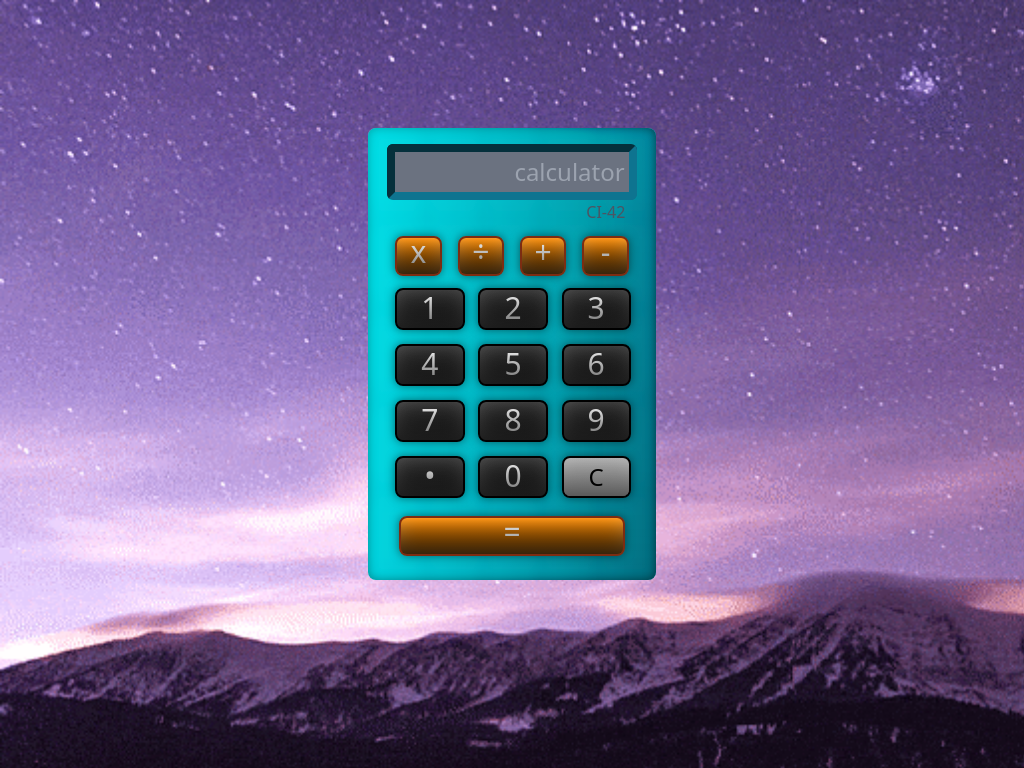
Test: clicking on digits updates display
Click the button "•".
click(430, 477)  # box [395,456,465,498]
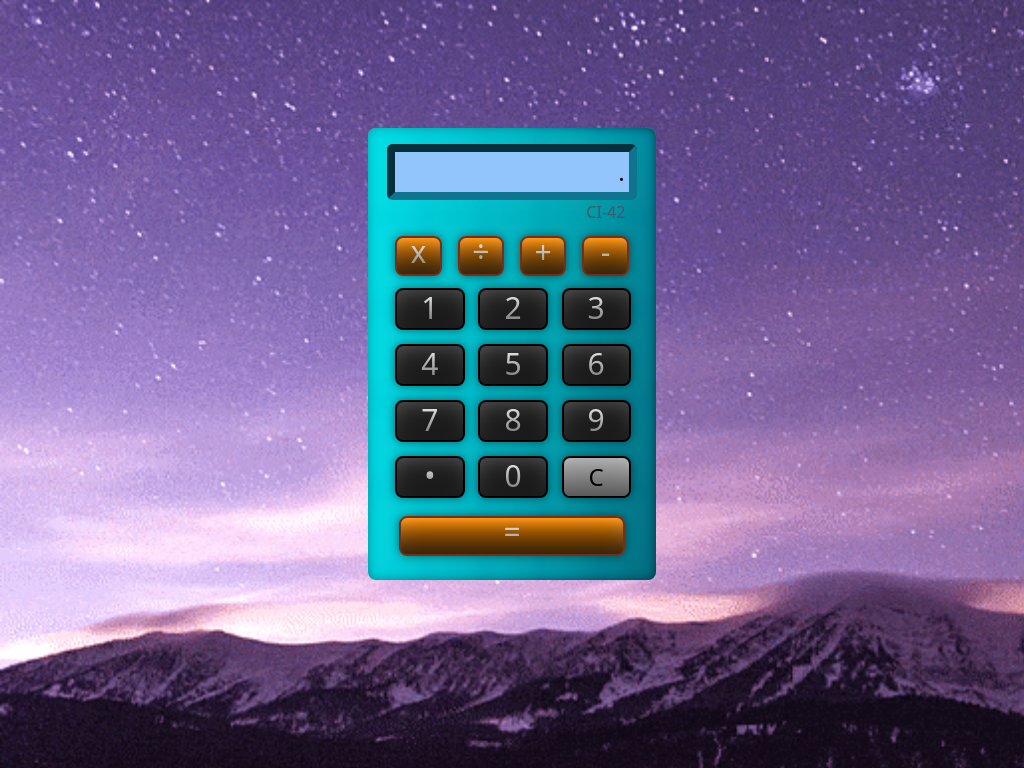
Now the field with placeholder "calculator" holds ".", box [387,144,637,200]
Click the button "2".
click(513, 309)  # box [478,288,548,330]
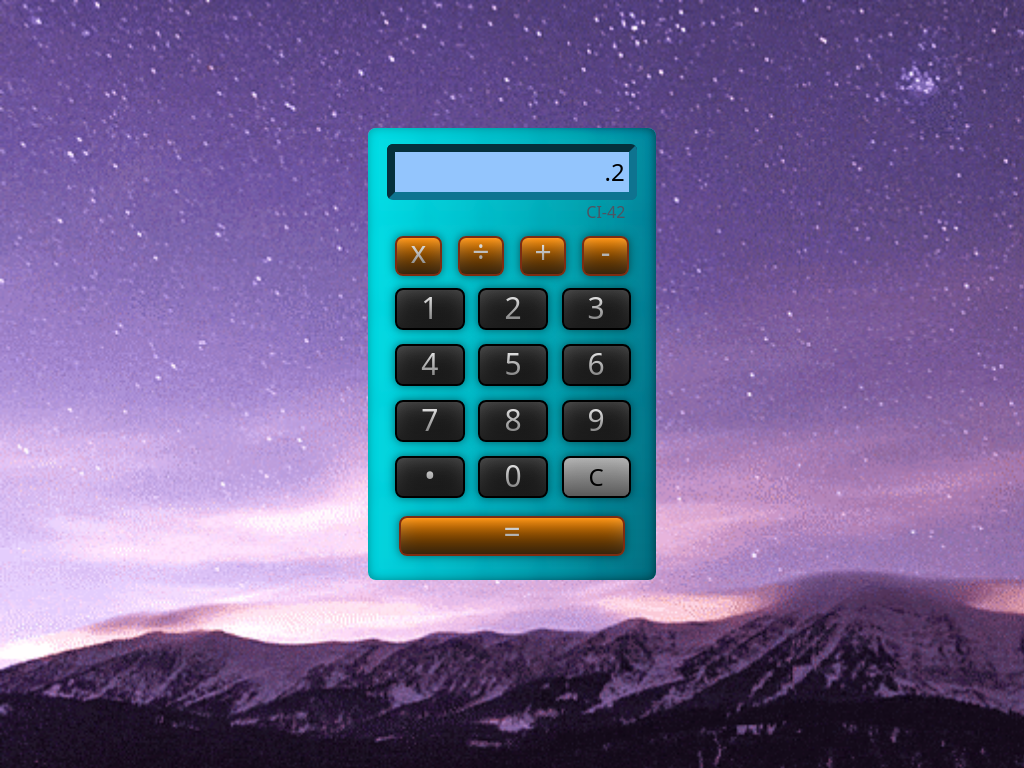
Now the field with placeholder "calculator" holds ".2", box [387,144,637,200]
